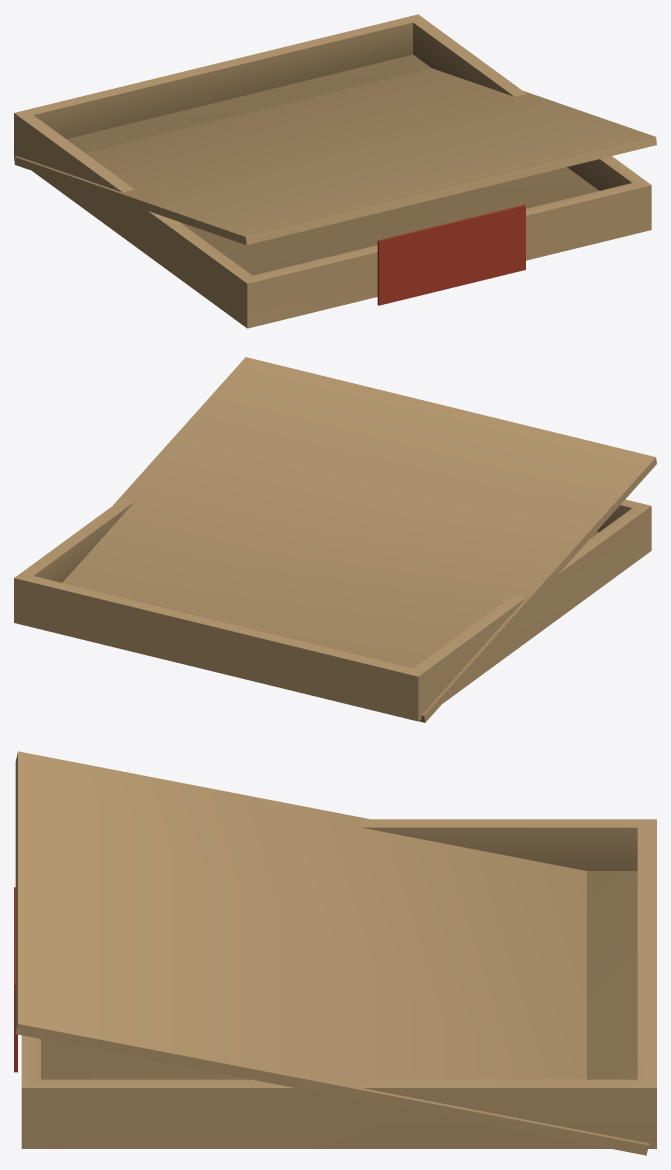
The model's file is pizzabox.glb.
3 renders of one model, top to bottom at view 1: azimuth 30°, elevation 25°; view 2: azimuth 150°, elevation 25°; view 3: azimuth 270°, elevation 25°, orthographic. The views are drawn at different scales.
Parts seen in each view (by area): view 1: Pizza; view 2: Pizza; view 3: Pizza.
Boxes of the visible parts, bbox=[...] form: Pizza: bbox=[14, 14, 656, 328]; Pizza: bbox=[14, 357, 656, 722]; Pizza: bbox=[14, 751, 656, 1155].
Bounding box in the file's own units: 0.335 × 0.0778 × 0.334.
